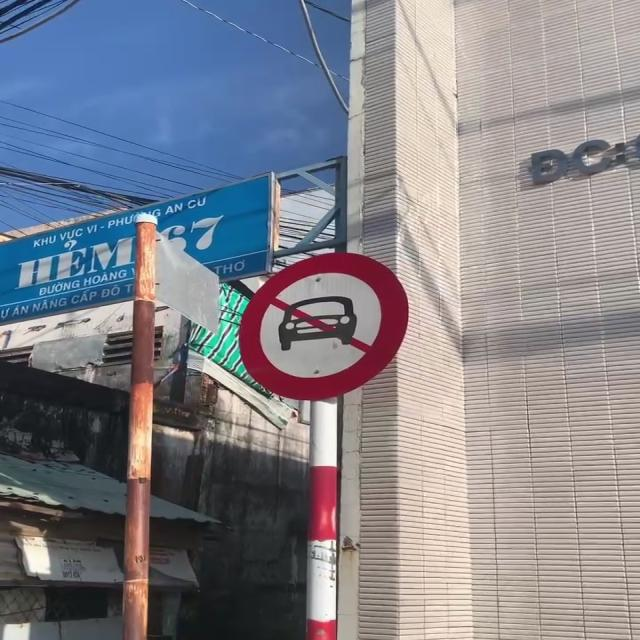Cam_O_To: (239, 250, 413, 397)
